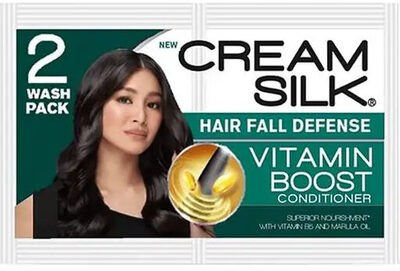Cream silk: (20, 14, 380, 257)
